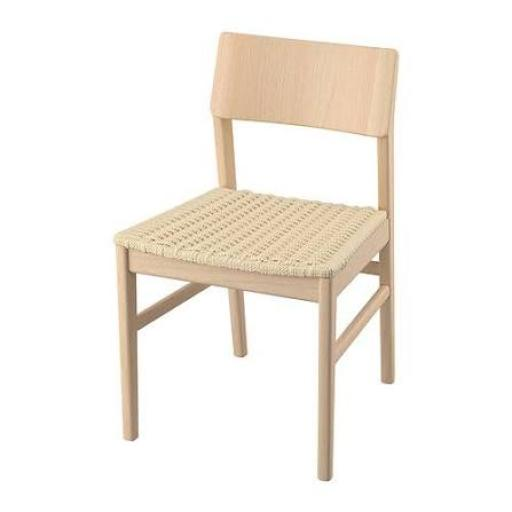kursi: (112, 31, 400, 485)
